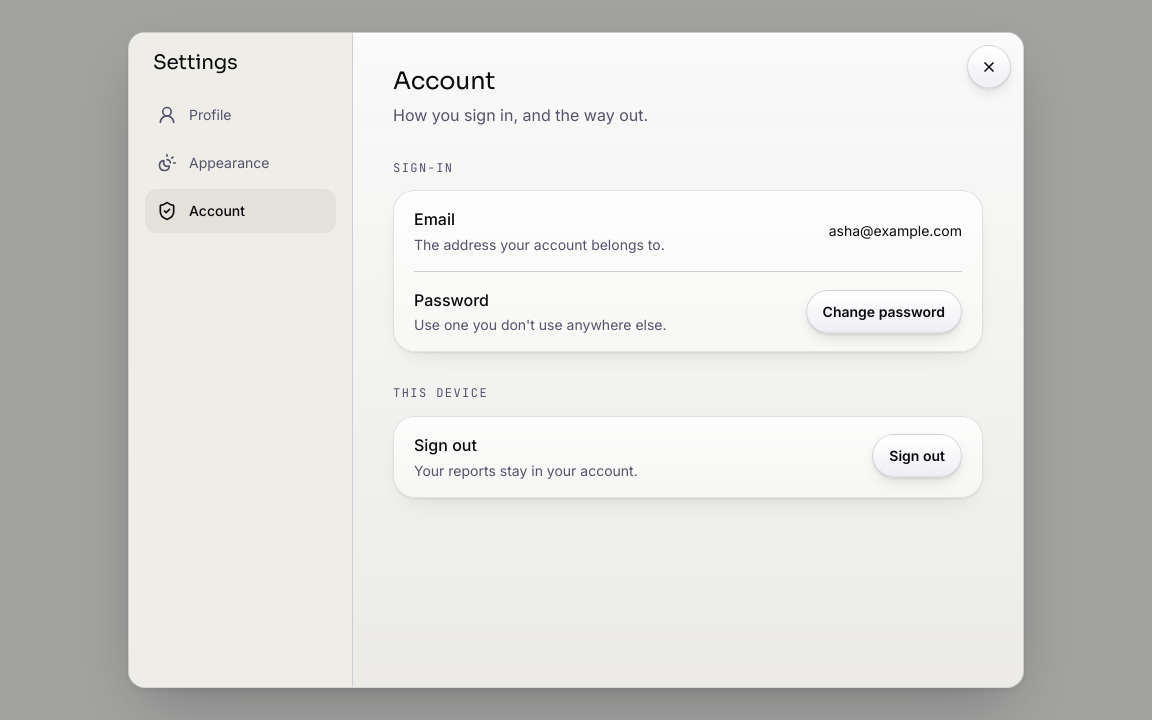
Test: changing the password › changes it, says so and closes the row
Click the button "Change password".
click(884, 312)  # box x1=806 y1=290 x2=962 y2=334
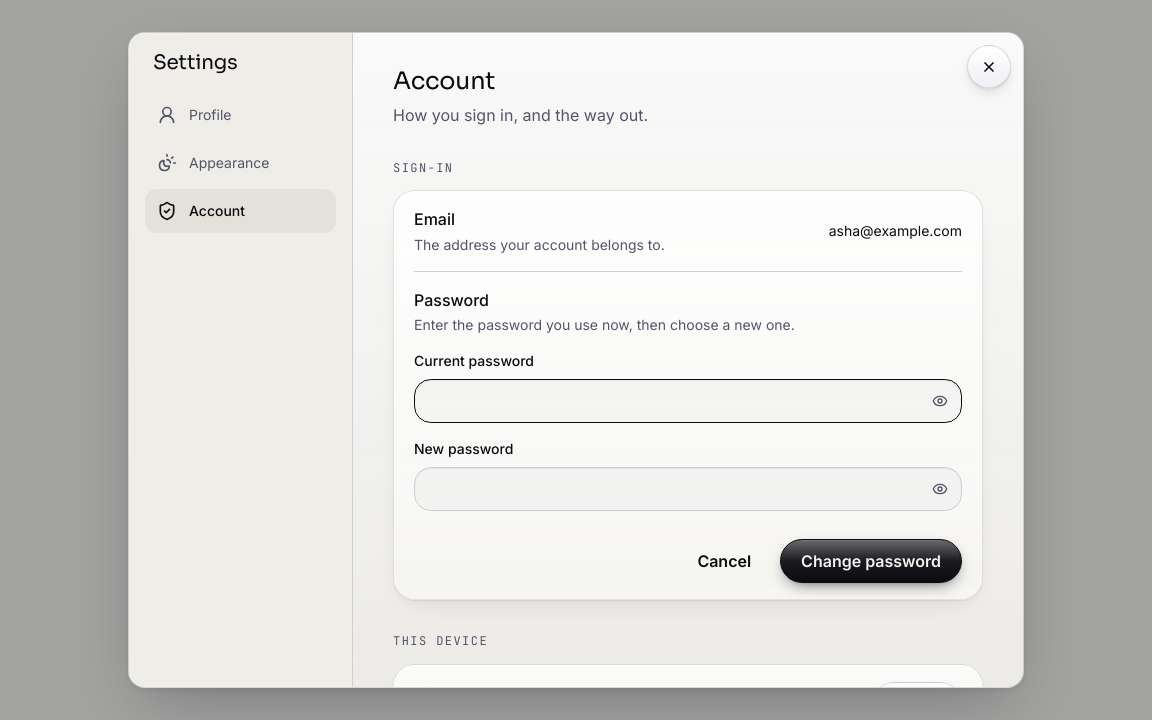
Type "OldPass123" into the password field labelled "Current password".
click(688, 401); type("OldPass123")  # box x1=414 y1=379 x2=962 y2=423
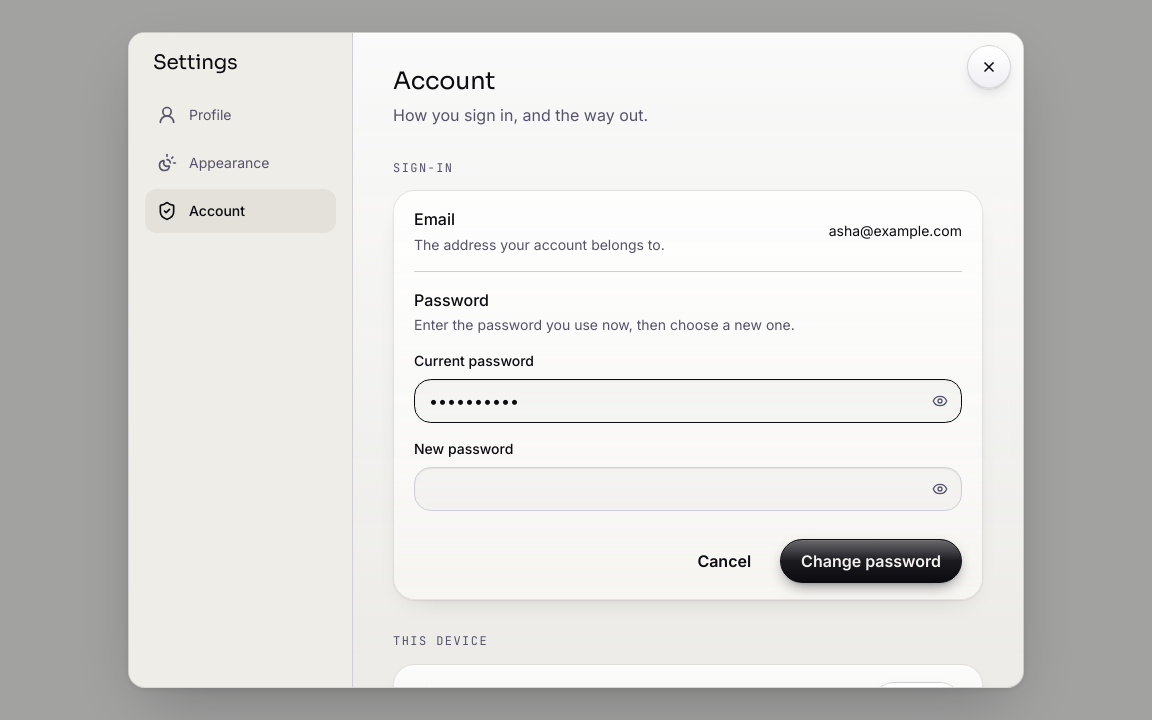
Type "NewPass456" into the password field labelled "New password".
click(688, 489); type("NewPass456")  # box x1=414 y1=467 x2=962 y2=511
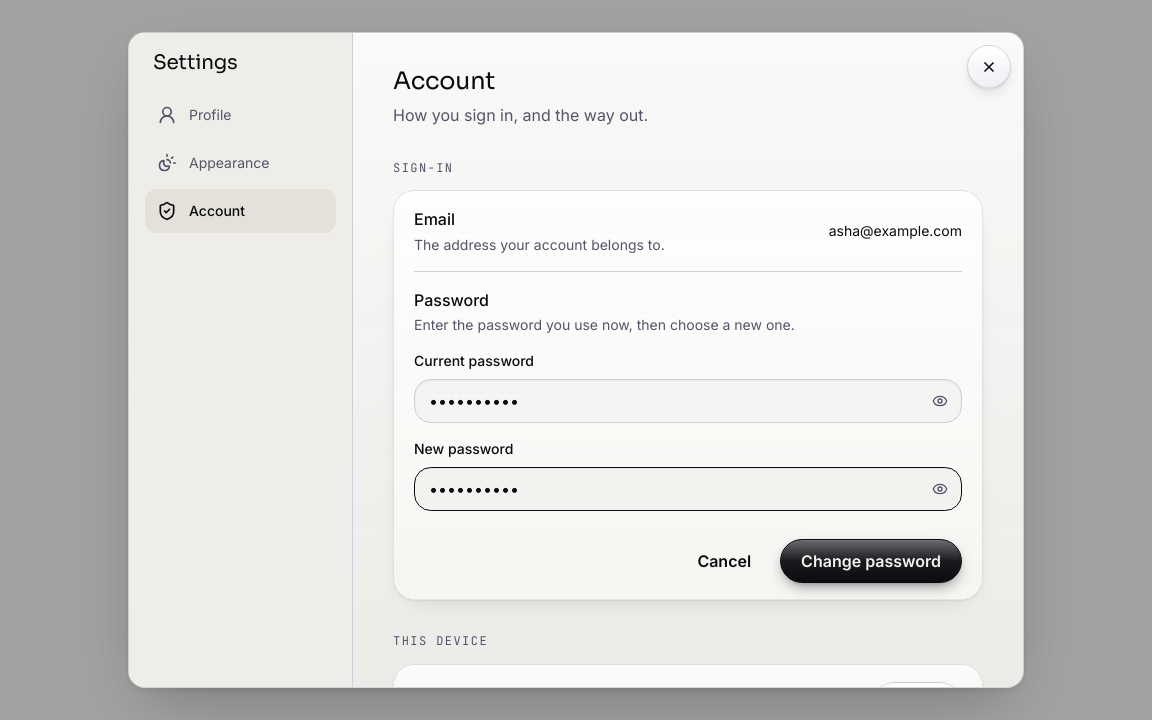
Click the button "Change password".
click(871, 561)  # box x1=780 y1=539 x2=962 y2=583
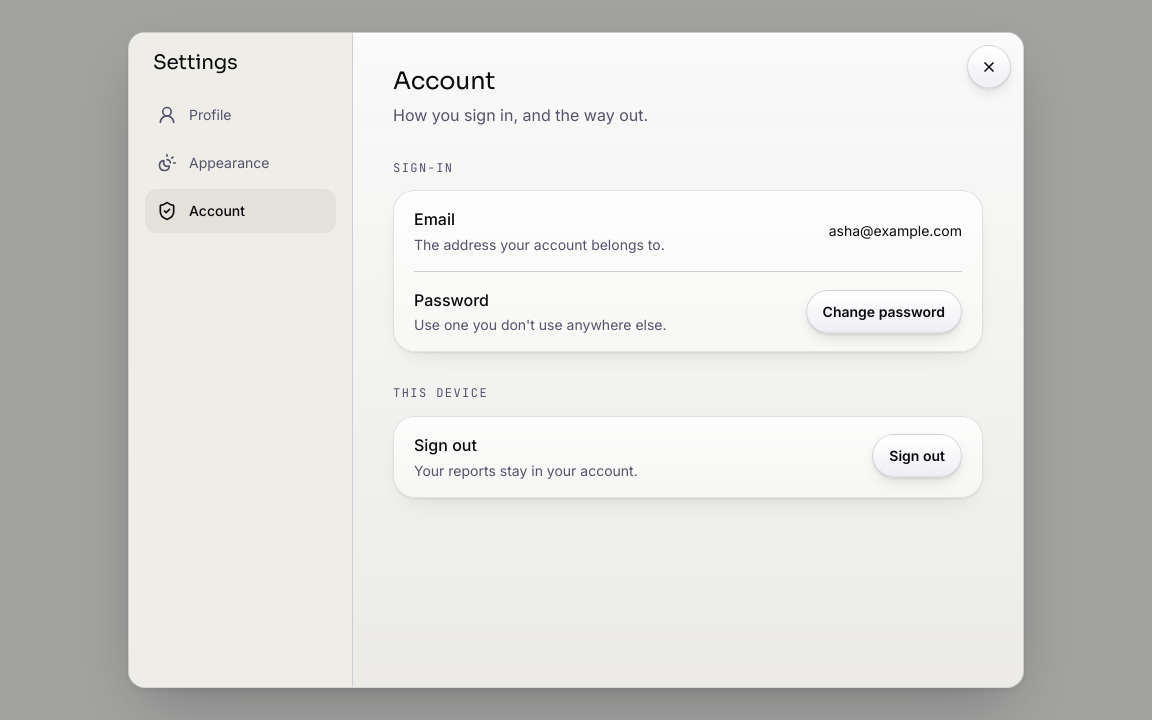
Expected: the text labelled "Current password" is gone
